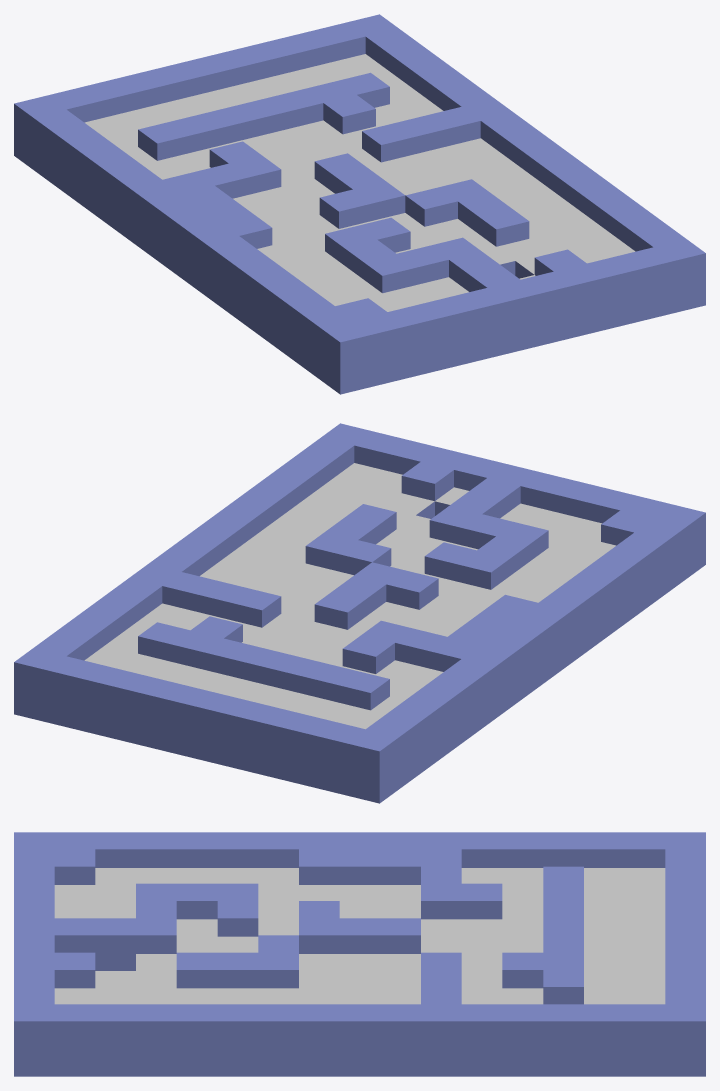
Rendered from 076_platform.fbx.
The picture shows the model from 3 angles, top to bottom: view 1: azimuth 30°, elevation 25°; view 2: azimuth 150°, elevation 25°; view 3: azimuth 270°, elevation 25°; orthographic projection. The views are drawn at different scales.
Parts seen in each view (by area): view 1: Grid; view 2: Grid; view 3: Grid.
Part boxes in pixels (x1,y1,x2,y2): Grid: [14, 14, 705, 394]; Grid: [14, 423, 705, 803]; Grid: [14, 832, 705, 1076].
Size of the model in its own units: 1100 by 150 by 1700.
